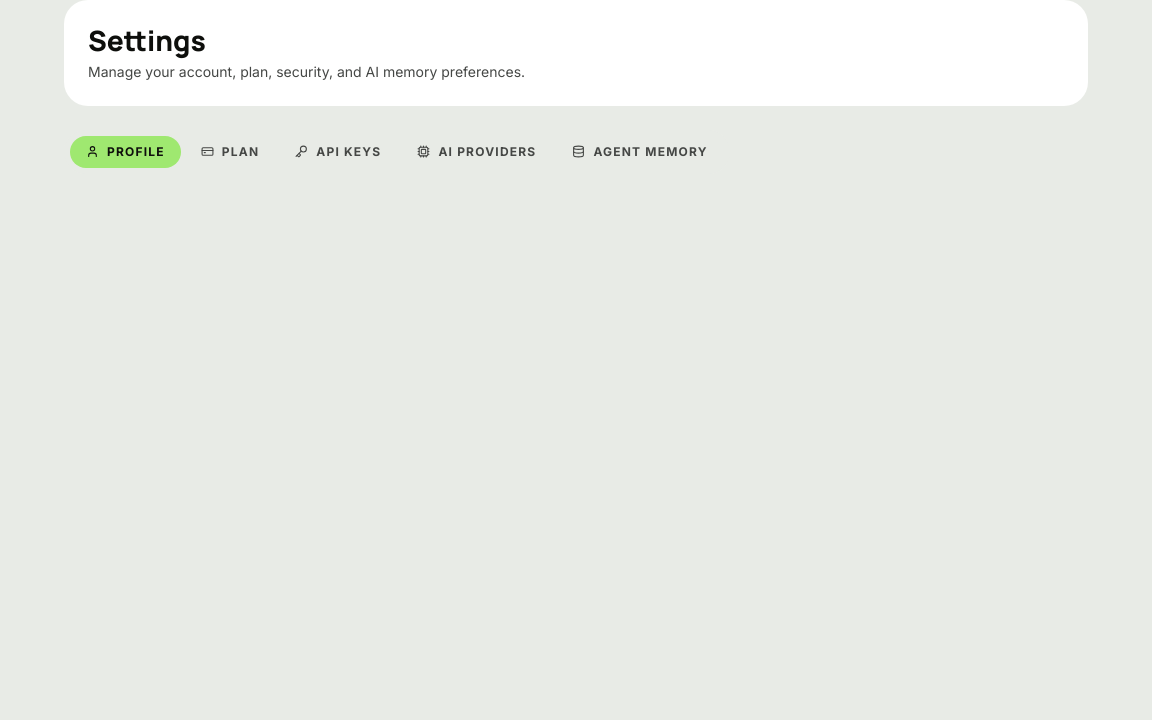
Test: SettingsPage — AI Providers tab › shows the mock-configured Claude key, masked
Click the button "AI Providers" at (477, 152), box [401,136,552,168]
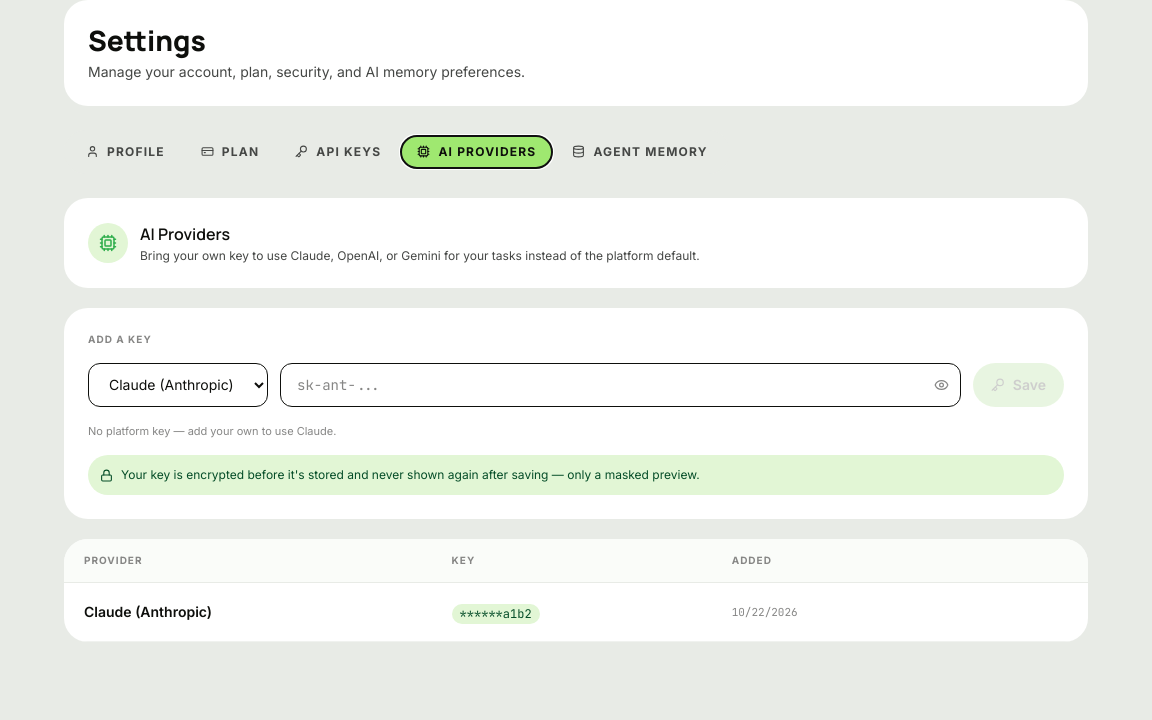
Now the text "******a1b2" is shown, box [452,604,540,624]
